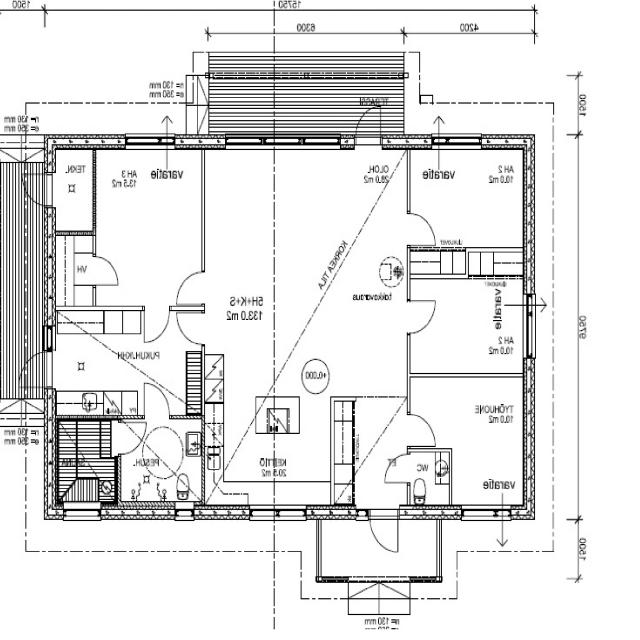door: (15, 352, 56, 389), (370, 505, 398, 556), (17, 172, 56, 208), (354, 99, 382, 148), (115, 422, 148, 454), (407, 301, 437, 334), (407, 213, 437, 246), (144, 306, 170, 343), (144, 383, 170, 419), (407, 414, 436, 446), (177, 271, 206, 303), (177, 313, 205, 345), (93, 256, 119, 284), (385, 454, 410, 482)
